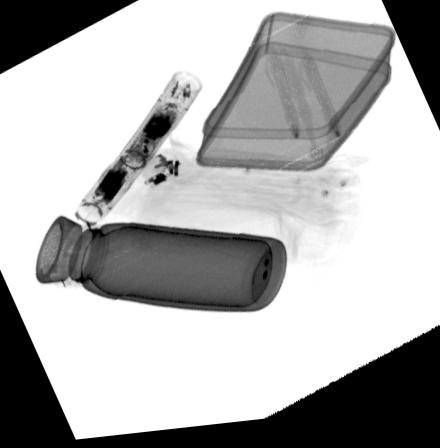Baton: (72, 73, 206, 234)
